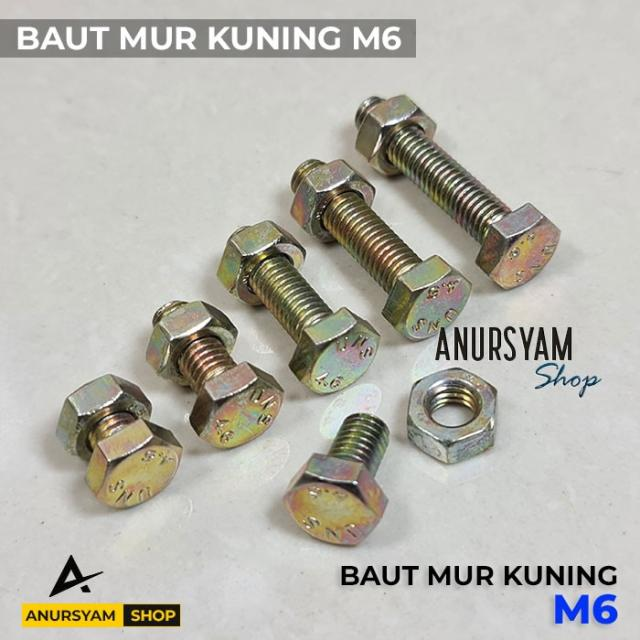Logam: (51, 67, 607, 574)
